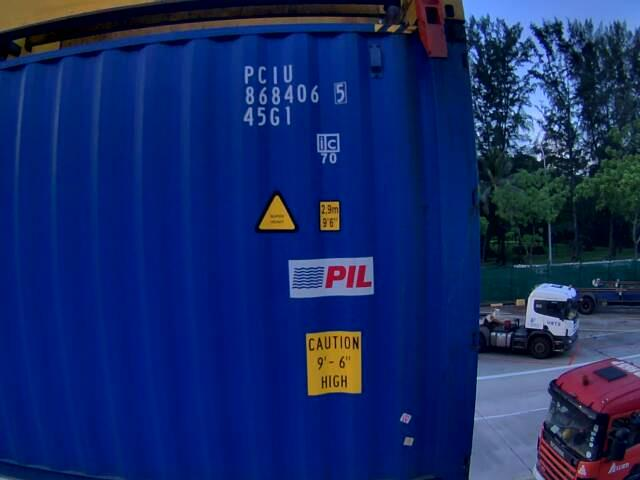container_no_door: (22, 16, 478, 475)
